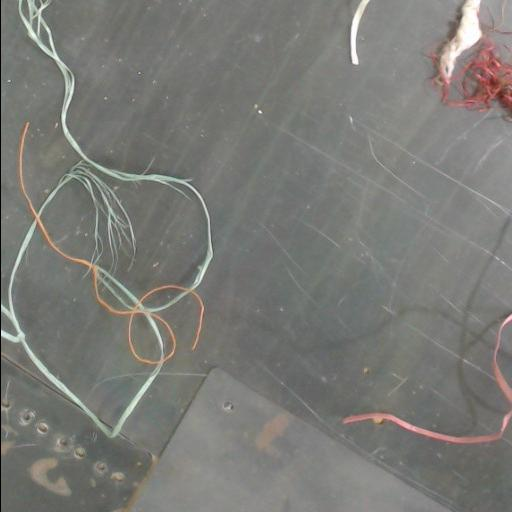conveyor belt: (45, 0, 512, 511), (15, 235, 151, 424), (1, 0, 78, 284), (97, 172, 204, 293), (481, 0, 512, 30)
thread: (1, 0, 212, 436), (343, 313, 512, 443), (430, 0, 512, 120), (349, 0, 369, 64)
